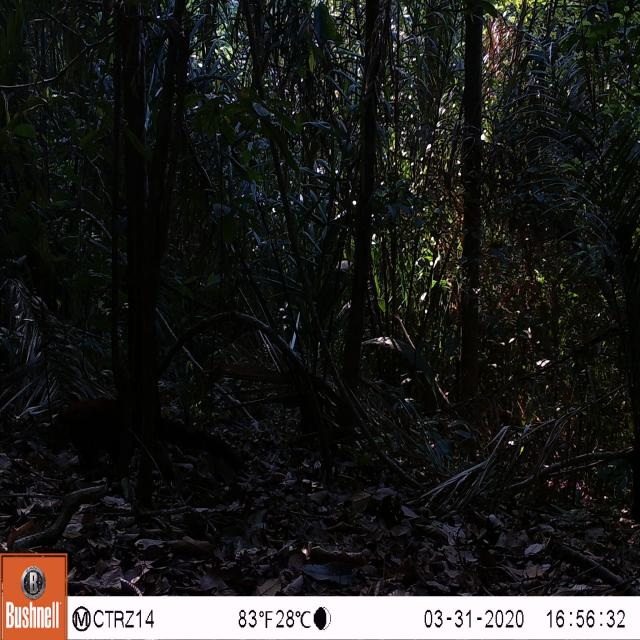South American Coati: (42, 386, 249, 501)
